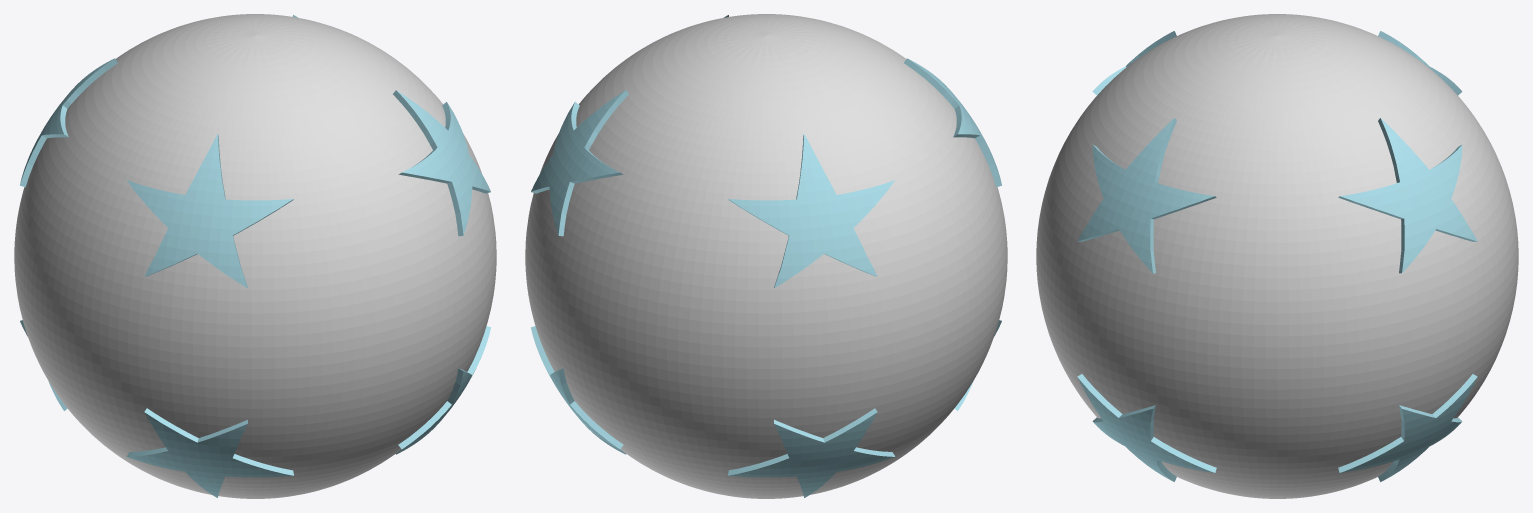
Rendered from 太空站衍生.fbx.
3 renders of one model, left to right at view 1: azimuth 30°, elevation 25°; view 2: azimuth 150°, elevation 25°; view 3: azimuth 270°, elevation 25°, orthographic.
Visible parts, largest first — view 1: 球体.005, 球体.004; view 2: 球体.005, 球体.004; view 3: 球体.005, 球体.004.
Part boxes in pixels (box(x1,y1,x2,y2)): 球体.005: box(14, 14, 496, 498); 球体.004: box(20, 15, 490, 497); 球体.005: box(525, 14, 1007, 498); 球体.004: box(531, 15, 1001, 497); 球体.005: box(1036, 14, 1518, 498); 球体.004: box(1077, 31, 1477, 481).
Bounding box in the file's own units: 207 × 209 × 207.
